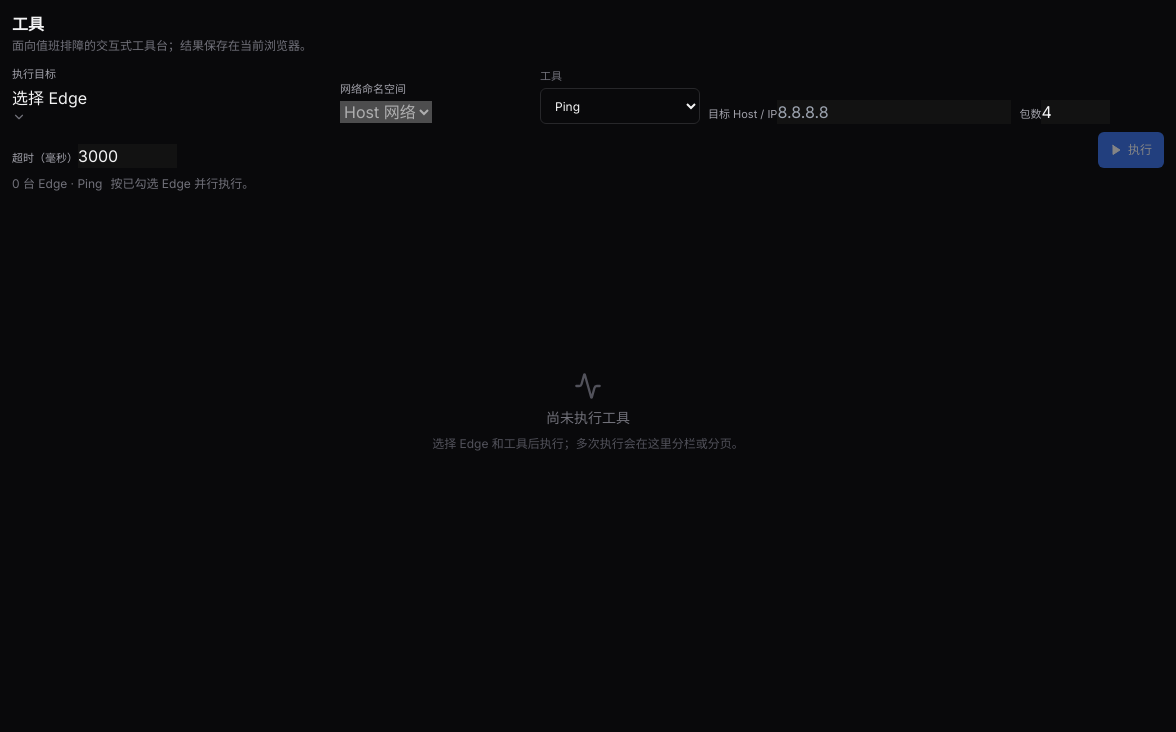
Test: DailyToolsPage › 抓包快捷任务会轮询成员状态并实时更新卡片
This screenshot has width=1176, height=732.
Click the button "选择 Edge".
click(50, 105)  # box [12, 86, 87, 124]
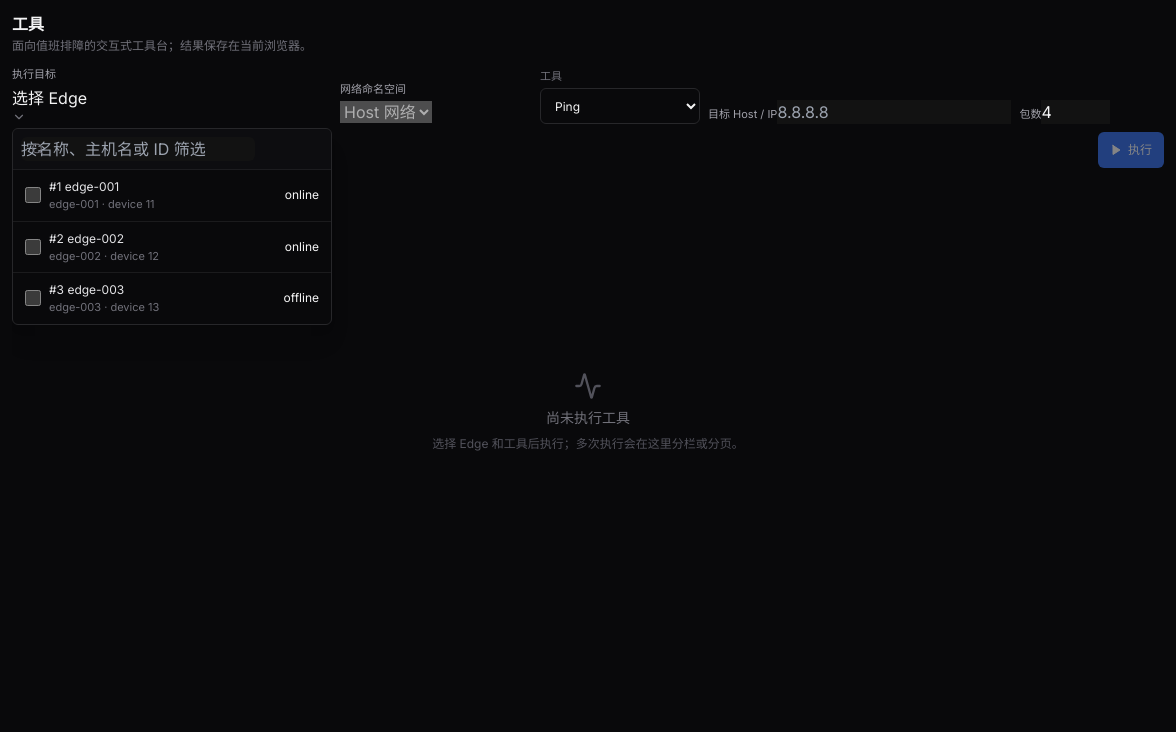
Result: the field named "搜索 Edge" is shown at [21, 137, 255, 161]
Click the checkbox named "选择 #1 edge-001".
click(33, 195)  # box [25, 187, 41, 203]
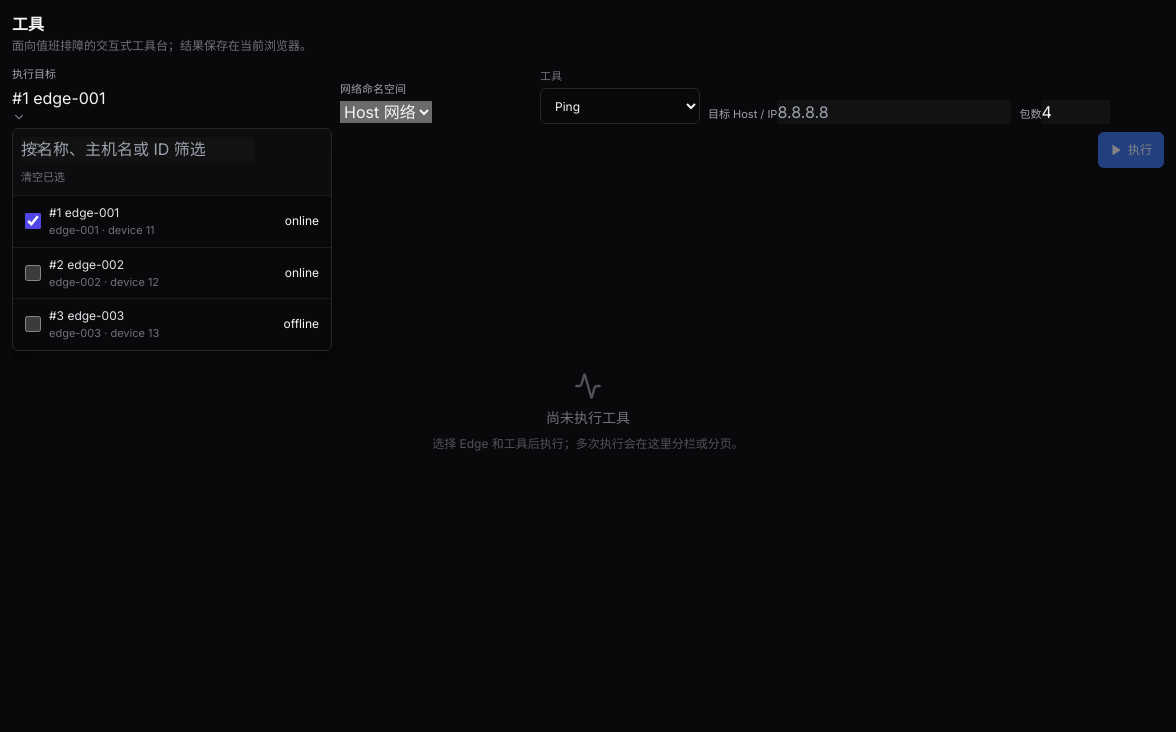
Click the checkbox named "选择 #2 edge-002".
click(33, 273)  # box [25, 265, 41, 281]
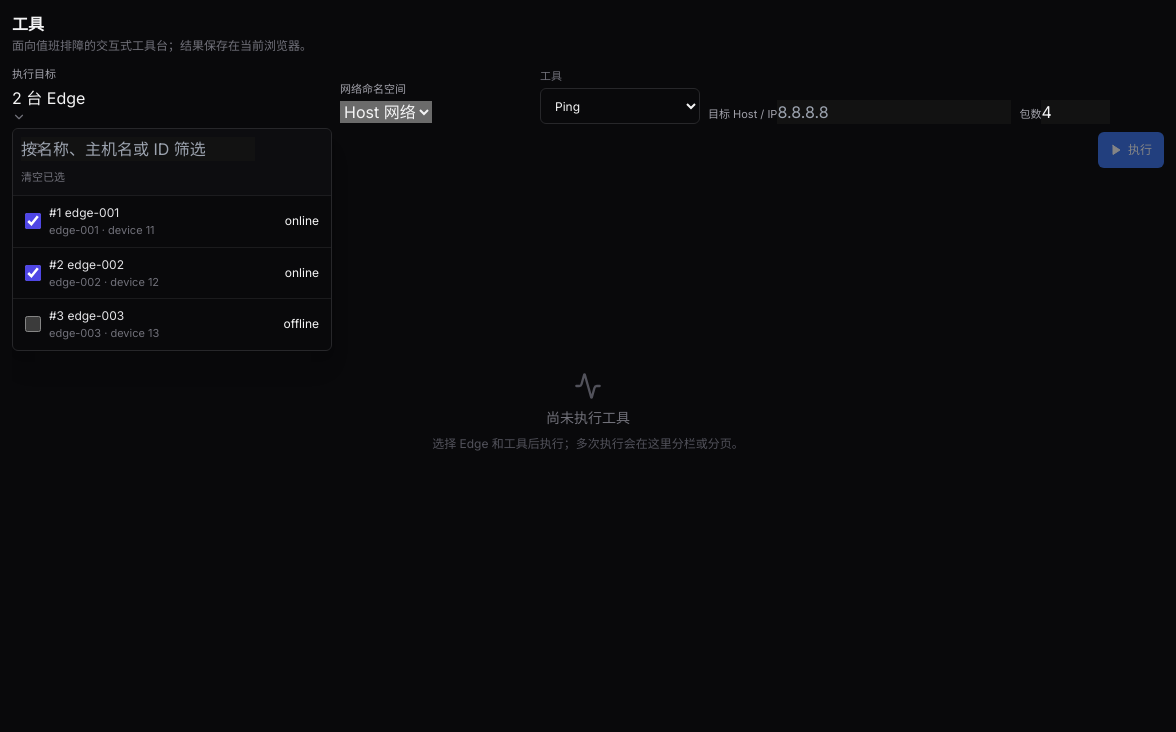
Select "Tcpdump" in the dropdown labelled "工具" at (620, 106), box [540, 88, 700, 124]
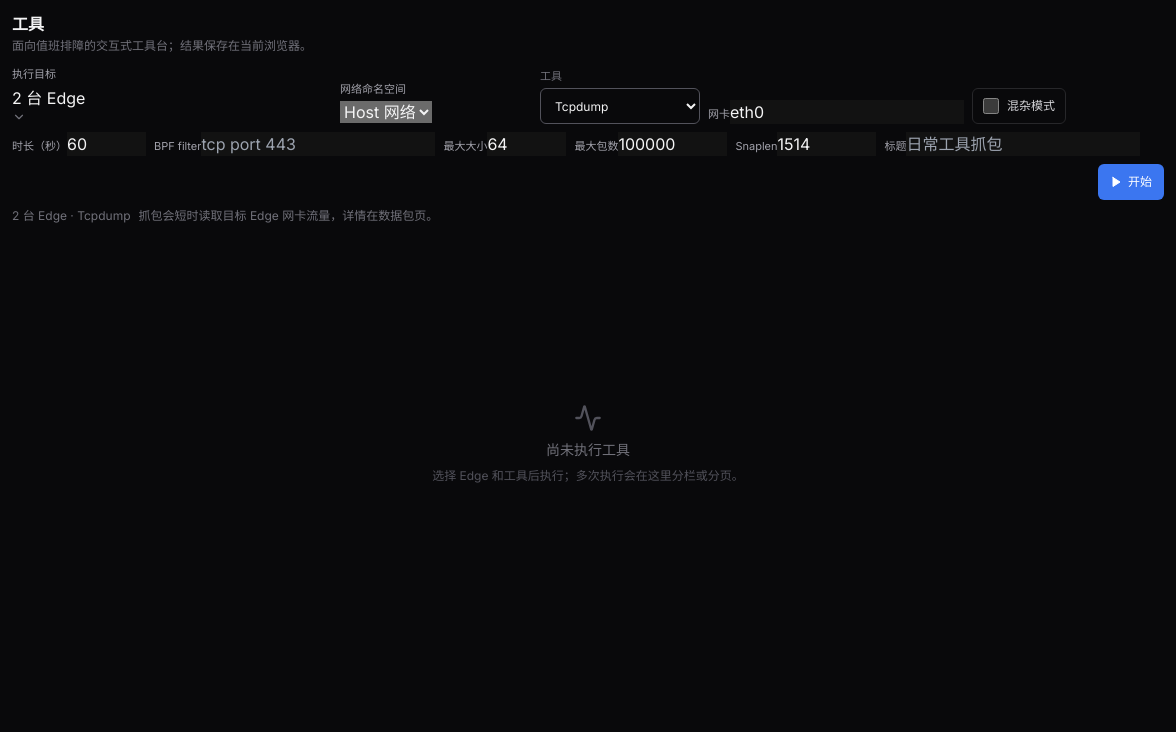
Click the button "开始".
click(1131, 182)  # box [1098, 164, 1164, 200]
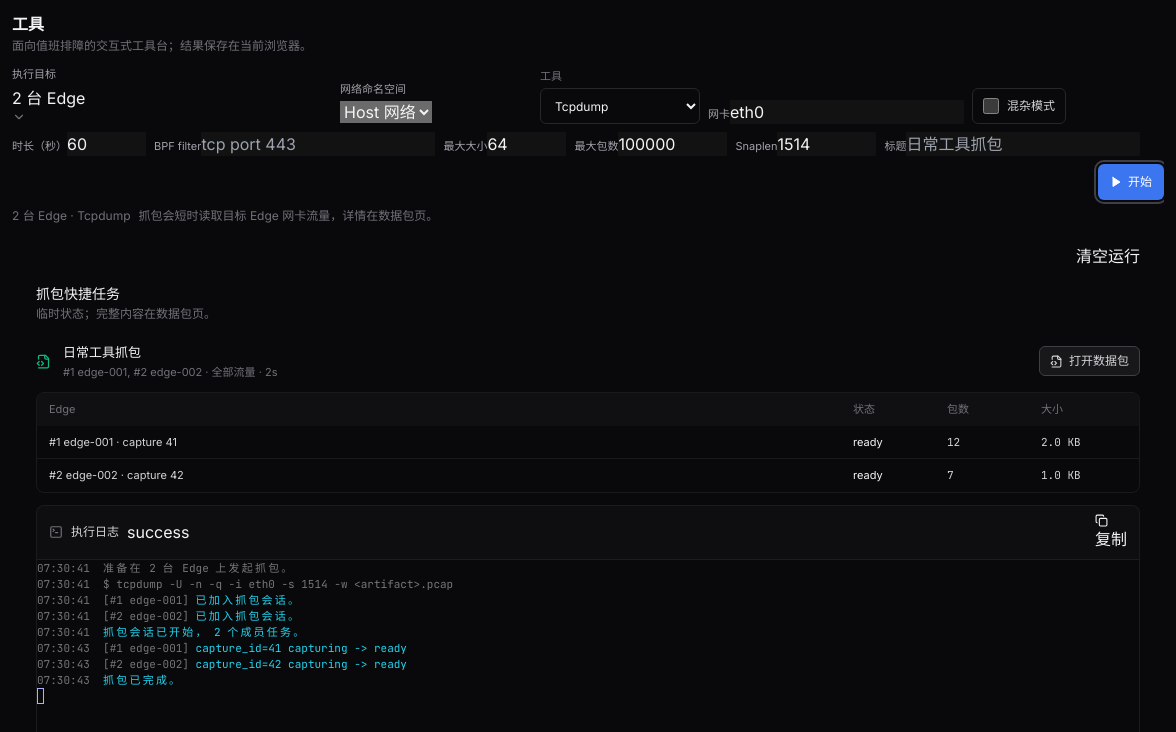
Result: the text "#1 edge-001 · capture 41" is shown at [49, 434, 177, 448]
Result: the text "12" is shown at [947, 434, 960, 448]
Result: the text "2.0 KB" is shown at [1041, 434, 1081, 448]
